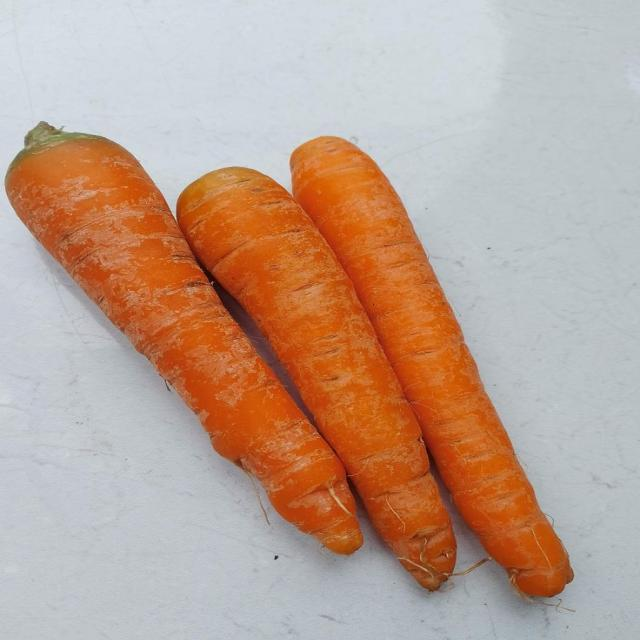carrot: (6, 123, 361, 553), (292, 138, 572, 596), (178, 168, 455, 589)
